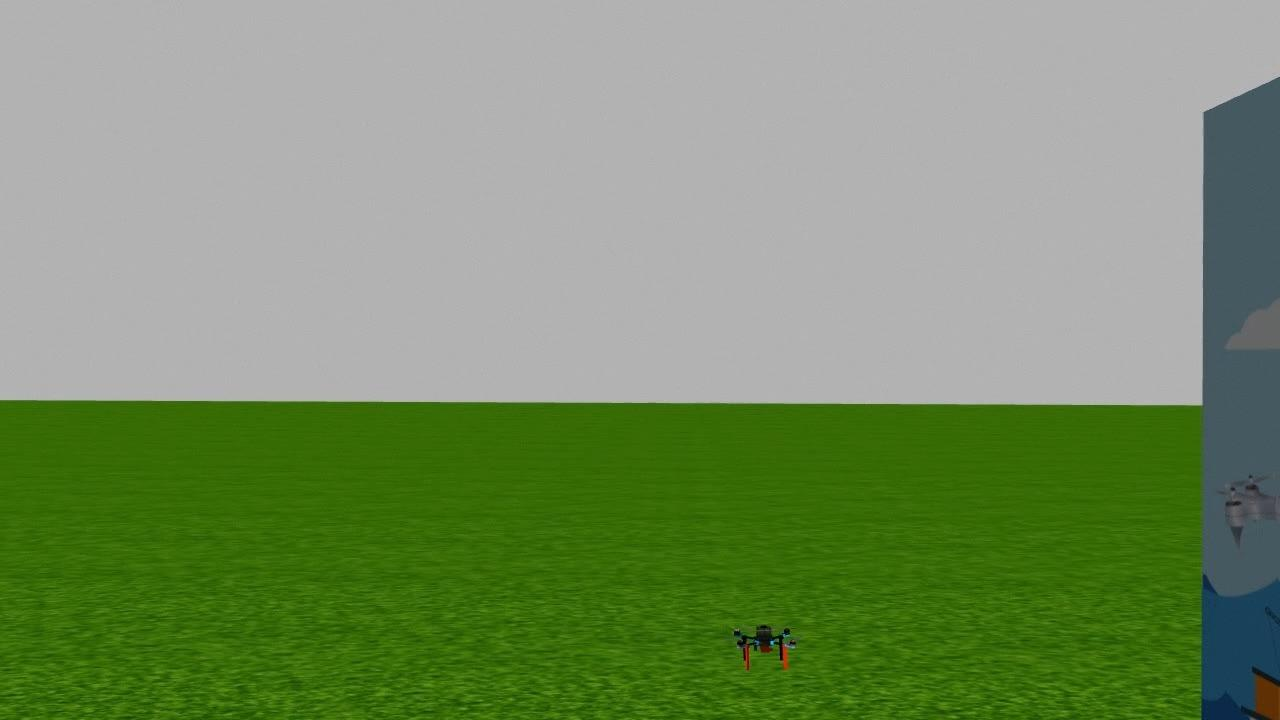UAV: (711, 610, 818, 679)
